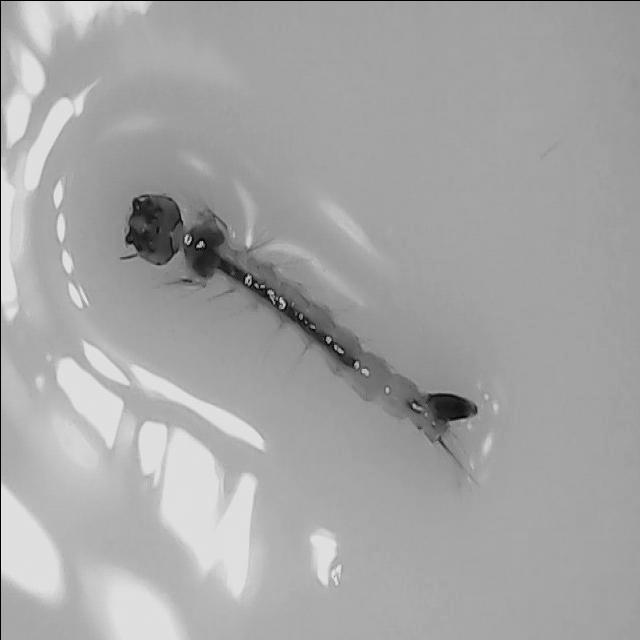larvas: (125, 197, 477, 450)
